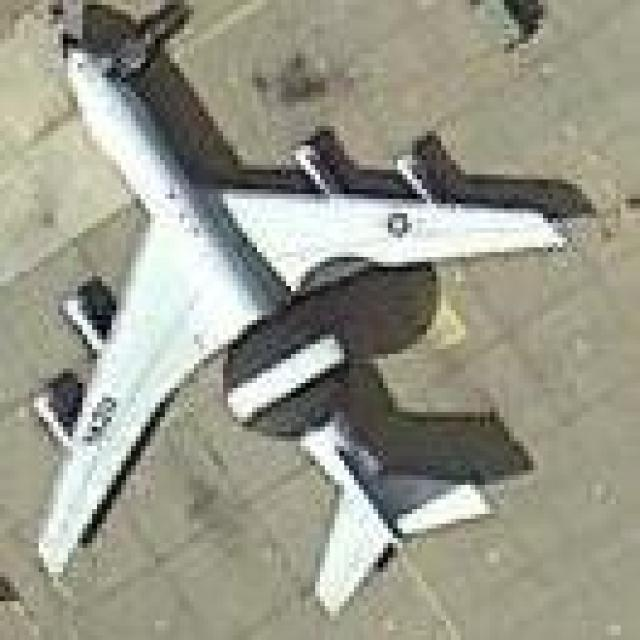E-3_TopDown: (19, 0, 596, 616)
